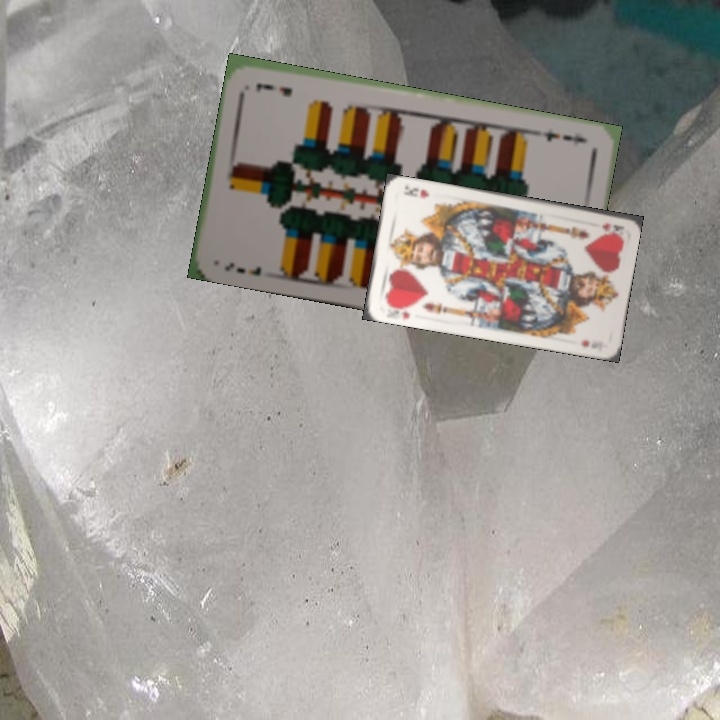E7: (534, 127, 590, 149), (221, 258, 264, 278)
HK: (382, 299, 412, 321), (598, 219, 625, 234)
